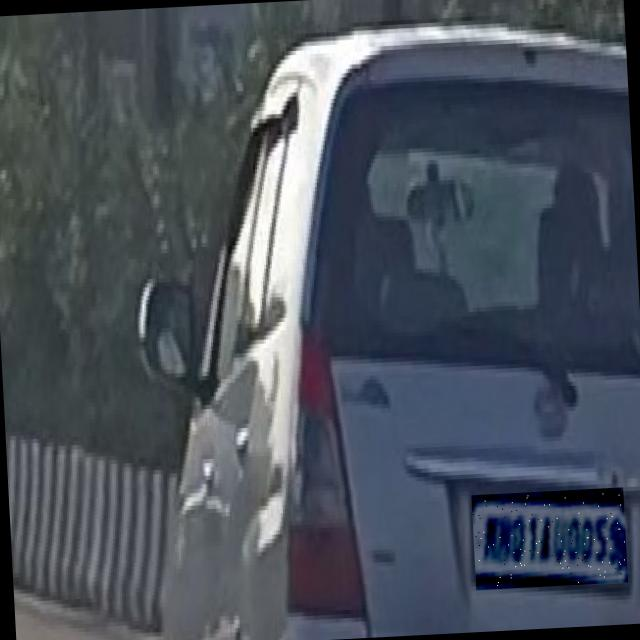Plate: (473, 489, 630, 592)
